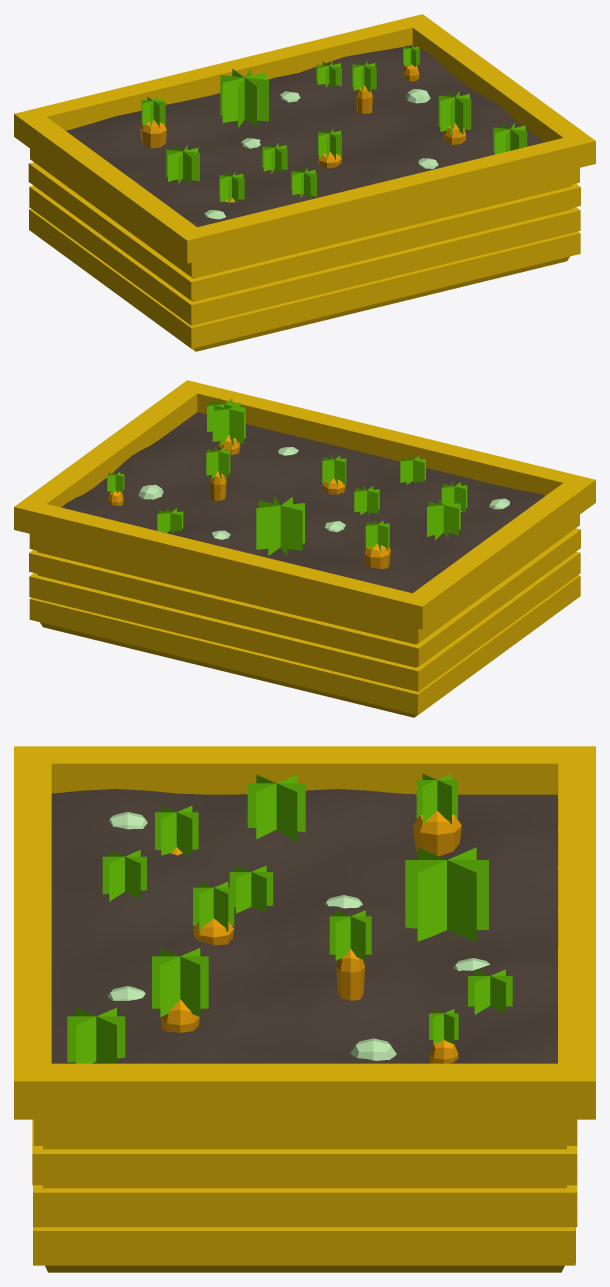
The model's file is MOD_Plantbox.fbx.
The picture shows the model from 3 angles, top to bottom: view 1: azimuth 30°, elevation 25°; view 2: azimuth 150°, elevation 25°; view 3: azimuth 270°, elevation 25°; orthographic projection. The views are drawn at different scales.
Parts seen in each view (by area): view 1: Plantbox; view 2: Plantbox; view 3: Plantbox.
Boxes of the visible parts, <box> form: Plantbox: <box>14,14,595,351</box>; Plantbox: <box>14,380,595,717</box>; Plantbox: <box>14,746,595,1272</box>.
Size of the model in its own units: 255 by 93.82 by 187.
